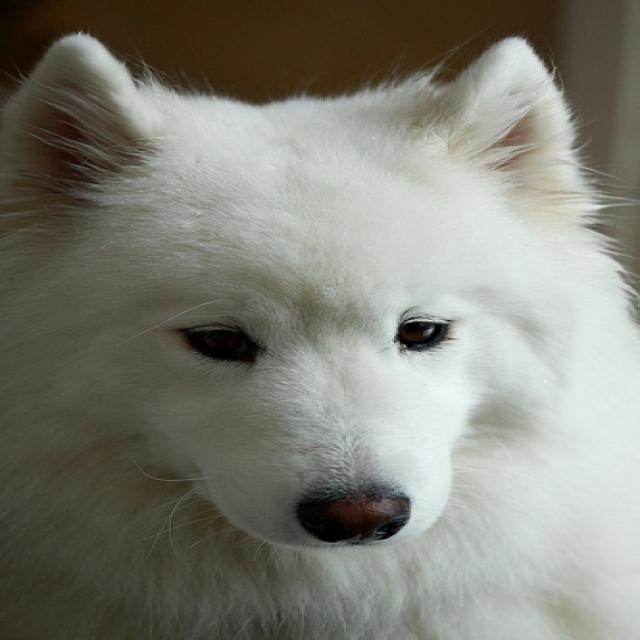dog-samoyed: (2, 20, 636, 637)
